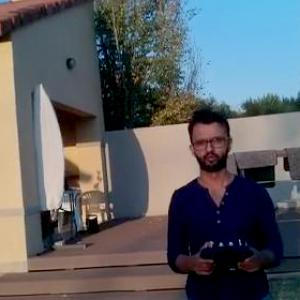follow: (162, 101, 288, 299)
